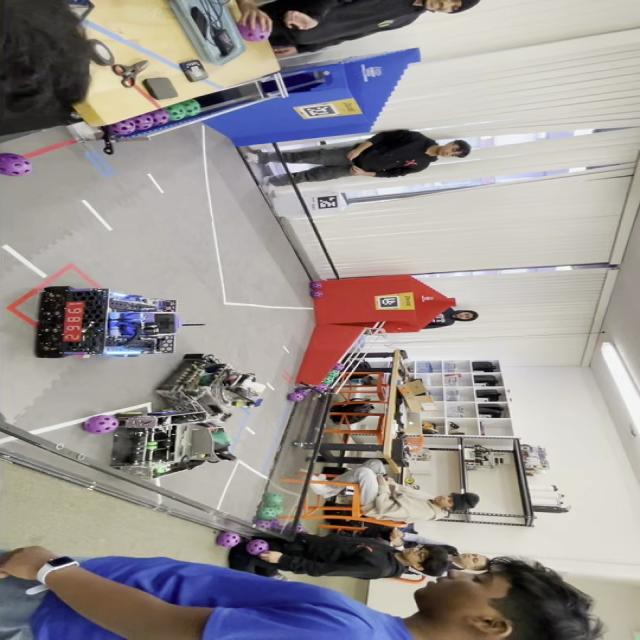artifact_green: (211, 428, 231, 446), (181, 99, 201, 117), (166, 104, 186, 121), (258, 506, 282, 519), (255, 520, 278, 530), (264, 494, 283, 506), (323, 371, 338, 384), (287, 392, 305, 402), (198, 374, 214, 385), (115, 412, 144, 418), (313, 384, 330, 393), (270, 506, 283, 517), (299, 387, 312, 396), (332, 363, 346, 371), (311, 290, 323, 298), (156, 466, 168, 474), (310, 282, 323, 289), (330, 372, 340, 381), (146, 442, 157, 450), (329, 370, 340, 378), (322, 378, 333, 385), (233, 400, 244, 406), (322, 376, 331, 383), (405, 478, 414, 485), (324, 374, 329, 379)
artifact_purple: (0, 153, 31, 176), (83, 415, 118, 434), (238, 24, 271, 41), (110, 119, 136, 135), (216, 532, 241, 548), (132, 114, 154, 131), (149, 109, 170, 125), (247, 540, 269, 555), (255, 520, 277, 530), (287, 392, 305, 402), (286, 524, 305, 533), (315, 384, 329, 393), (310, 281, 322, 290), (298, 388, 311, 396), (332, 363, 344, 371), (311, 290, 323, 298), (296, 524, 305, 533)
